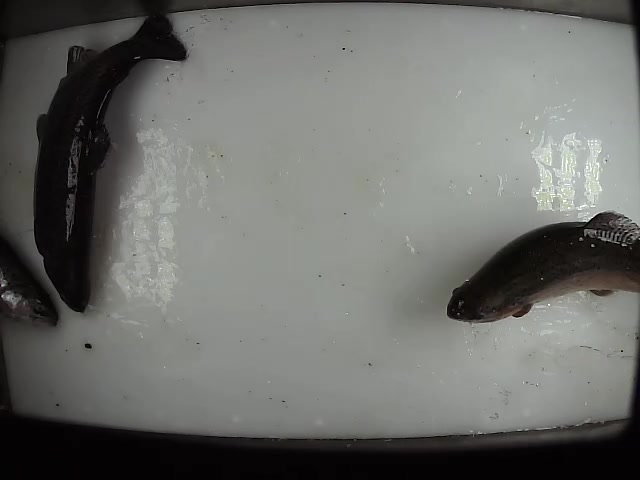fish: (32, 12, 188, 316), (445, 209, 640, 327)
